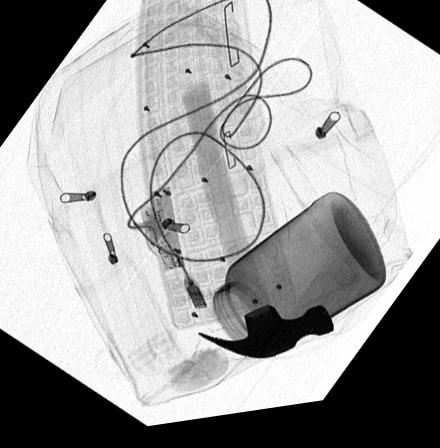Hammer: (179, 88, 335, 366)
